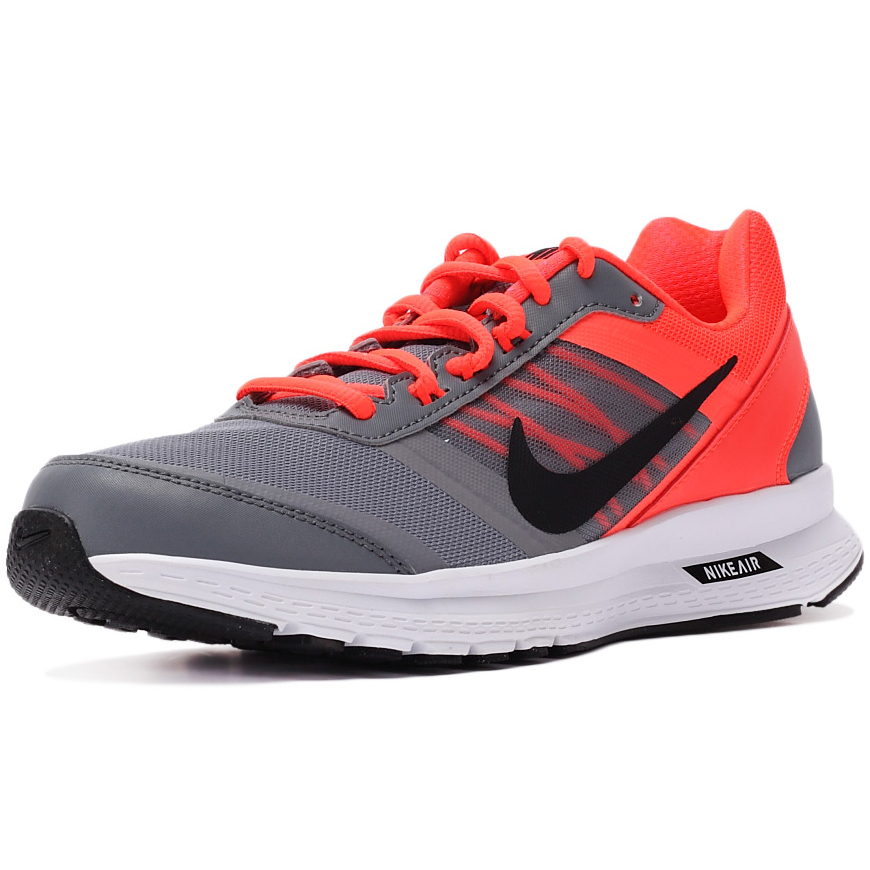Nike: (503, 348, 756, 539)
